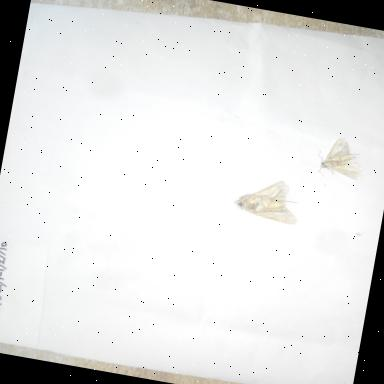abw: (227, 168, 309, 231), (304, 128, 374, 194)
